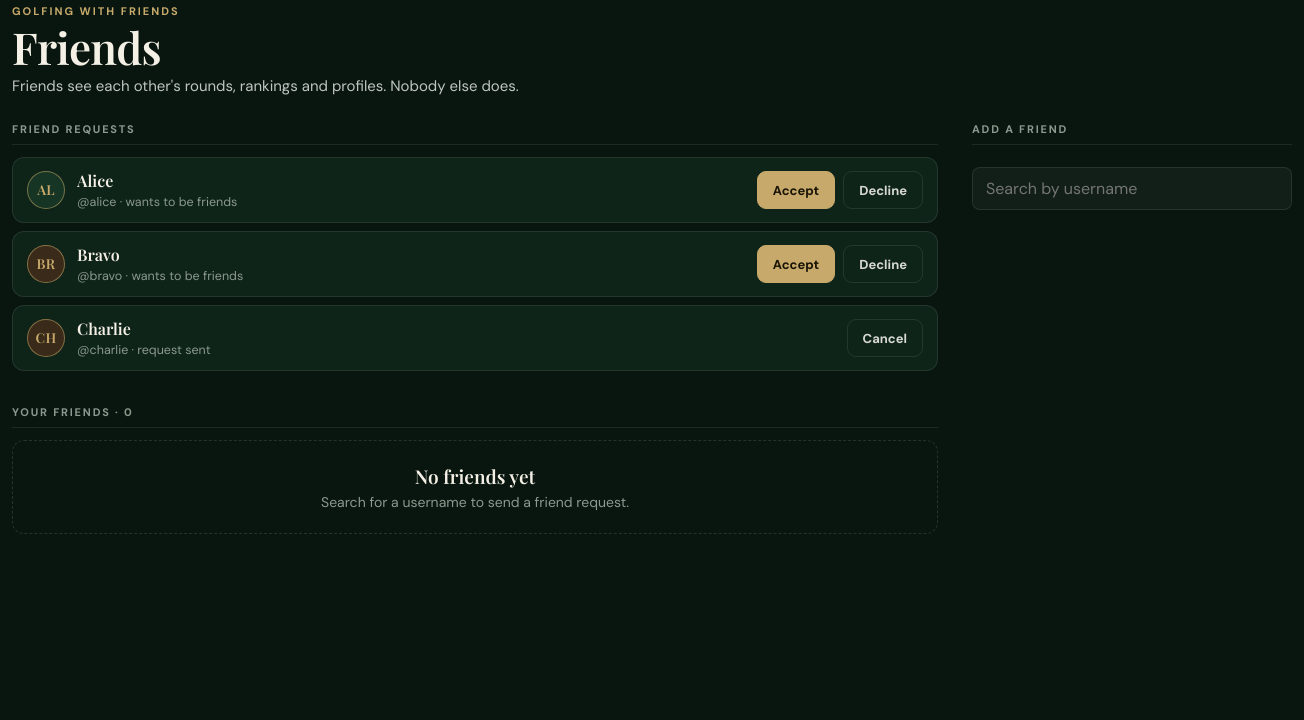
Scenario: friend action failures › cancels the viewer's own request
Check: the search field labelled "Add a friend" is shown, box [972, 167, 1292, 210]
Click the button "Cancel".
click(885, 338)  # box [847, 319, 923, 357]
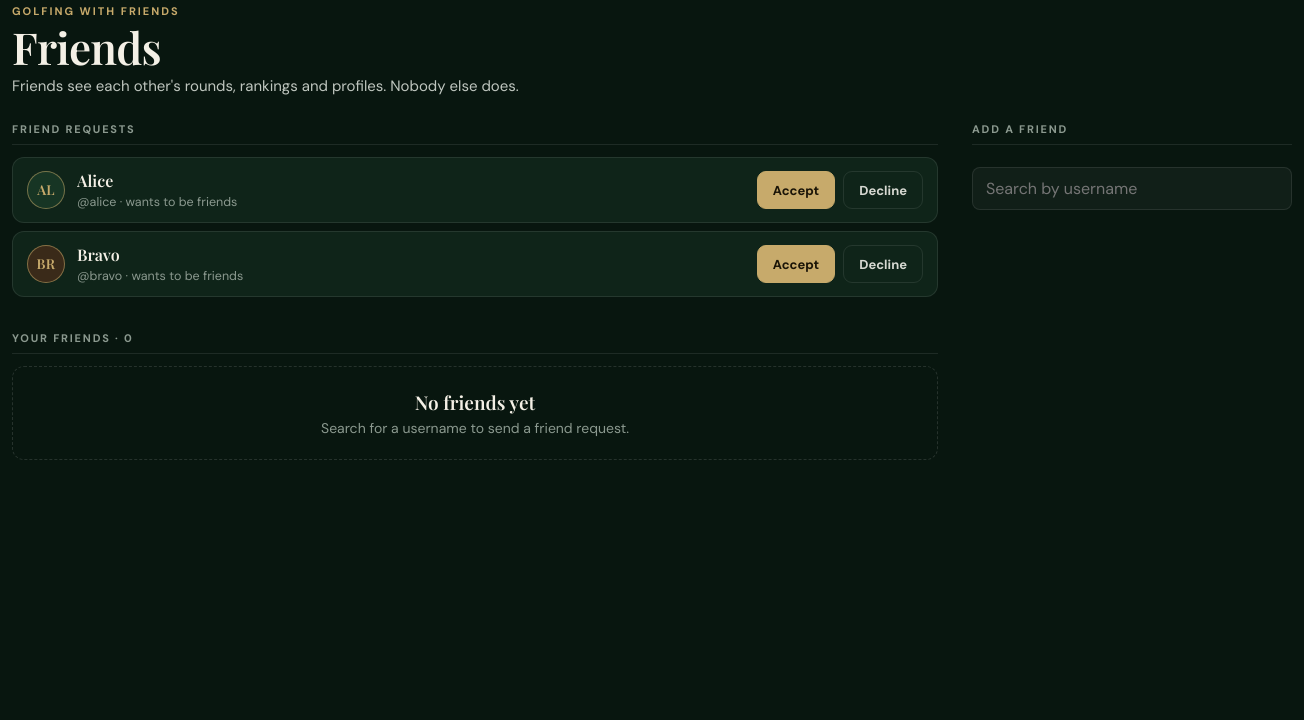
Check: the text "Charlie" is gone
